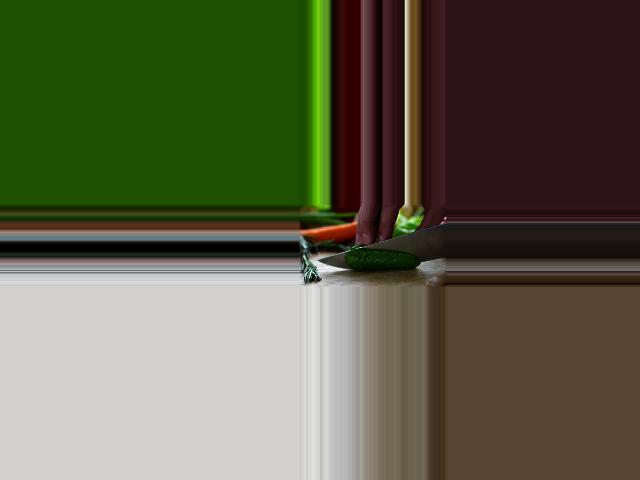cucumber: (344, 248, 419, 271)
